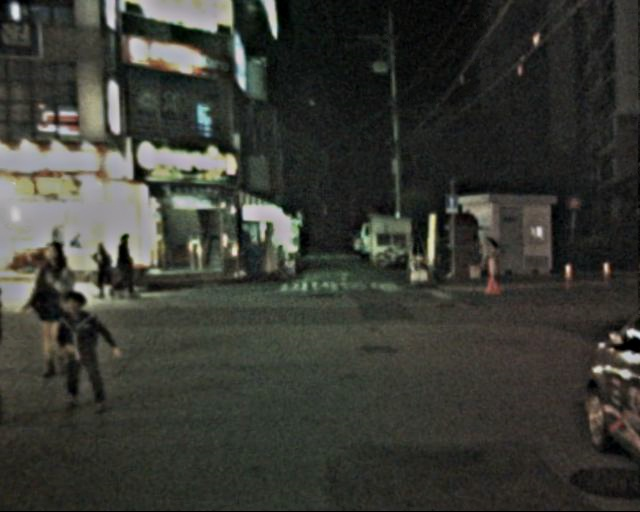person: (24, 237, 91, 377), (58, 283, 111, 413), (112, 229, 145, 300), (90, 237, 116, 299), (475, 233, 496, 287)
